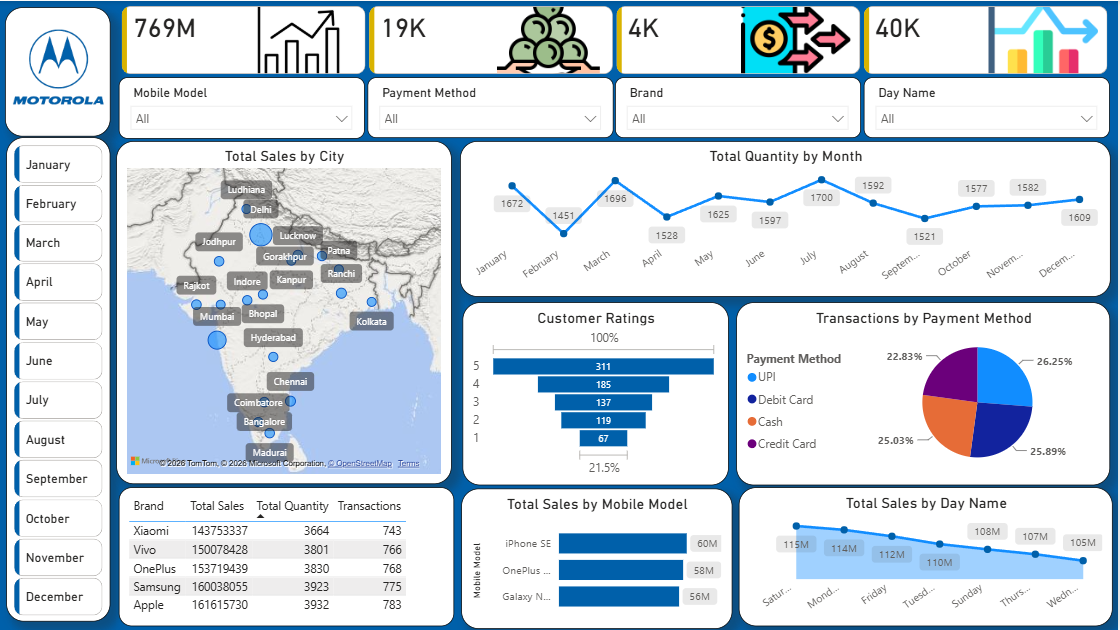

The page's visual inventory and layout, read from the dashboard file:
{"tool":"powerbi","page":{"name":"Page 1","canvas":[1280,720],"ordinal":0},"visuals":[{"type":"shape","box":[13,67.7,158.6,637.1],"z":0},{"type":"advancedSlicerVisual","fields":{"Values":["Sales Data.Date.Variation.Date Hierarchy.Month"]},"box":[27.4,67.7,138.4,635.7],"z":1000},{"type":"cardVisual","fields":{"Data":["Sales Data.Total Sales","Sales Data.Total Quantity","Sales Data.Total Transaction","Sales Data.Average"]},"box":[512.3,0,767,110.2],"z":2000},{"type":"shape","box":[513.7,120.2,754.1,140.2],"z":3000},{"type":"shape","box":[183.1,128.3,320,344.5],"z":4000},{"type":"shape","box":[512.3,519.4,283.3,184.6],"z":5000},{"type":"map","fields":{"Category":["Sales Data.City"],"Size":["Sales Data.Total Sales"]},"box":[196,139.8,294.1,320],"z":6000},{"type":"lineChart","fields":{"Category":["Sales Data.Date.Variation.Date Hierarchy.Month"],"Y":["Sales Data.Total Sales"]},"box":[529.4,128.8,724,121.6],"z":7000},{"type":"shape","box":[795.6,276.2,472.2,237.5],"z":8000},{"type":"columnChart","fields":{"Category":["Sales Data.Mobile Model"],"Y":["Sales Data.Total Sales"]},"box":[526.6,529.4,254.7,160.3],"z":9000},{"type":"pieChart","fields":{"Category":["Sales Data.Payment Method"],"Y":["Sales Data.Total Transaction"]},"box":[808.4,281.9,445,224.6],"z":10000},{"type":"shape","box":[513.7,274.7,279,231.8],"z":11000},{"type":"funnel","title":" Customer Ratings ","fields":{"Category":["Sales Data.Customer Ratings"],"Y":["CountNonNull(Sales Data.Customer Ratings)"]},"box":[525.1,281.9,254.7,204.6],"z":12000},{"type":"shape","box":[797,519.4,469.3,186],"z":13000},{"type":"stackedAreaChart","title":" Customer Ratings ","fields":{"Category":["Sales Data.Date.Variation.Date Hierarchy.Day"],"Y":["Sales Data.Total Sales"]},"box":[809.9,533.7,443.6,156],"z":14000},{"type":"shape","box":[181.6,487.2,321.4,214.8],"z":14500},{"type":"lineChart","fields":{"Category":["Sales Data.Brand"],"Y":["Sales Data.Total Sales","Sales Data.Total Quantity","Sales Data.Total Transaction"]},"box":[188.8,518.9,302.7,170.1],"z":15000}]}

Visuals, with their boxes in screenshot pixels (x1, y1, x2, y2), scaled from the page's 1280x720 canvas onto the 1120x630 screenshot:
shape: (11, 59, 150, 617)
advancedSlicerVisual - Sales Data.Date.Variation.Date Hierarchy.Month: (24, 59, 145, 615)
cardVisual - Sales Data.Total Sales x Sales Data.Total Quantity: (448, 0, 1119, 96)
shape: (449, 105, 1109, 228)
shape: (160, 112, 440, 414)
shape: (448, 454, 696, 616)
map - Sales Data.City x Sales Data.Total Sales: (172, 122, 429, 402)
lineChart - Sales Data.Date.Variation.Date Hierarchy.Month x Sales Data.Total Sales: (463, 113, 1097, 219)
shape: (696, 242, 1109, 449)
columnChart - Sales Data.Mobile Model x Sales Data.Total Sales: (461, 463, 684, 603)
pieChart - Sales Data.Payment Method x Sales Data.Total Transaction: (707, 247, 1097, 443)
shape: (449, 240, 694, 443)
" Customer Ratings " funnel: (459, 247, 682, 426)
shape: (697, 454, 1108, 617)
" Customer Ratings " stackedAreaChart: (709, 467, 1097, 603)
shape: (159, 426, 440, 614)
lineChart - Sales Data.Brand x Sales Data.Total Sales: (165, 454, 430, 603)
